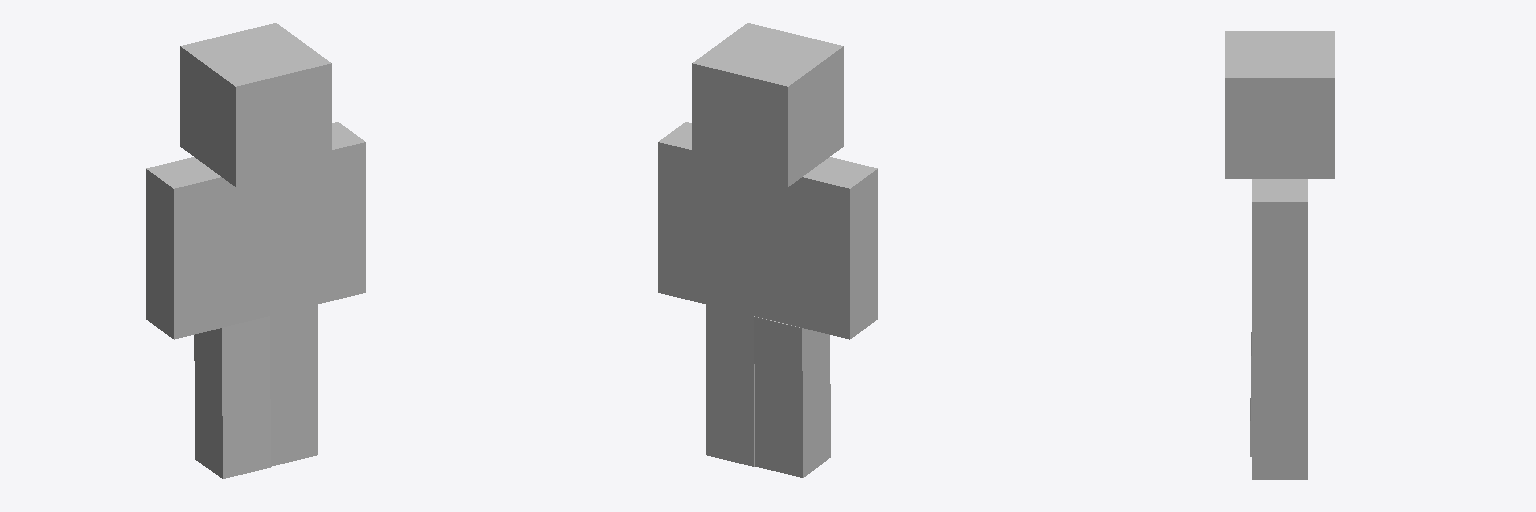
The model's file is player_000002.obj.
3 views of the same model, side by side, from view 1: azimuth 30°, elevation 25°; view 2: azimuth 150°, elevation 25°; view 3: azimuth 270°, elevation 25° (orthographic).
Parts seen in each view (by area): view 1: Player; view 2: Player; view 3: Player.
Part boxes in pixels (x1,y1,x2,y2): Player: (146,23,365,478); Player: (658,23,877,477); Player: (1225,31,1334,479).
Bounding box in the file's own units: 0.9926 × 1.99 × 0.4963.